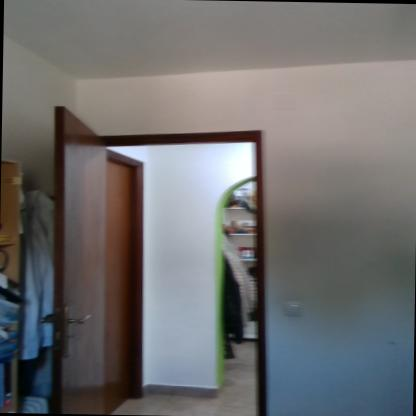open: (79, 107, 282, 415)
